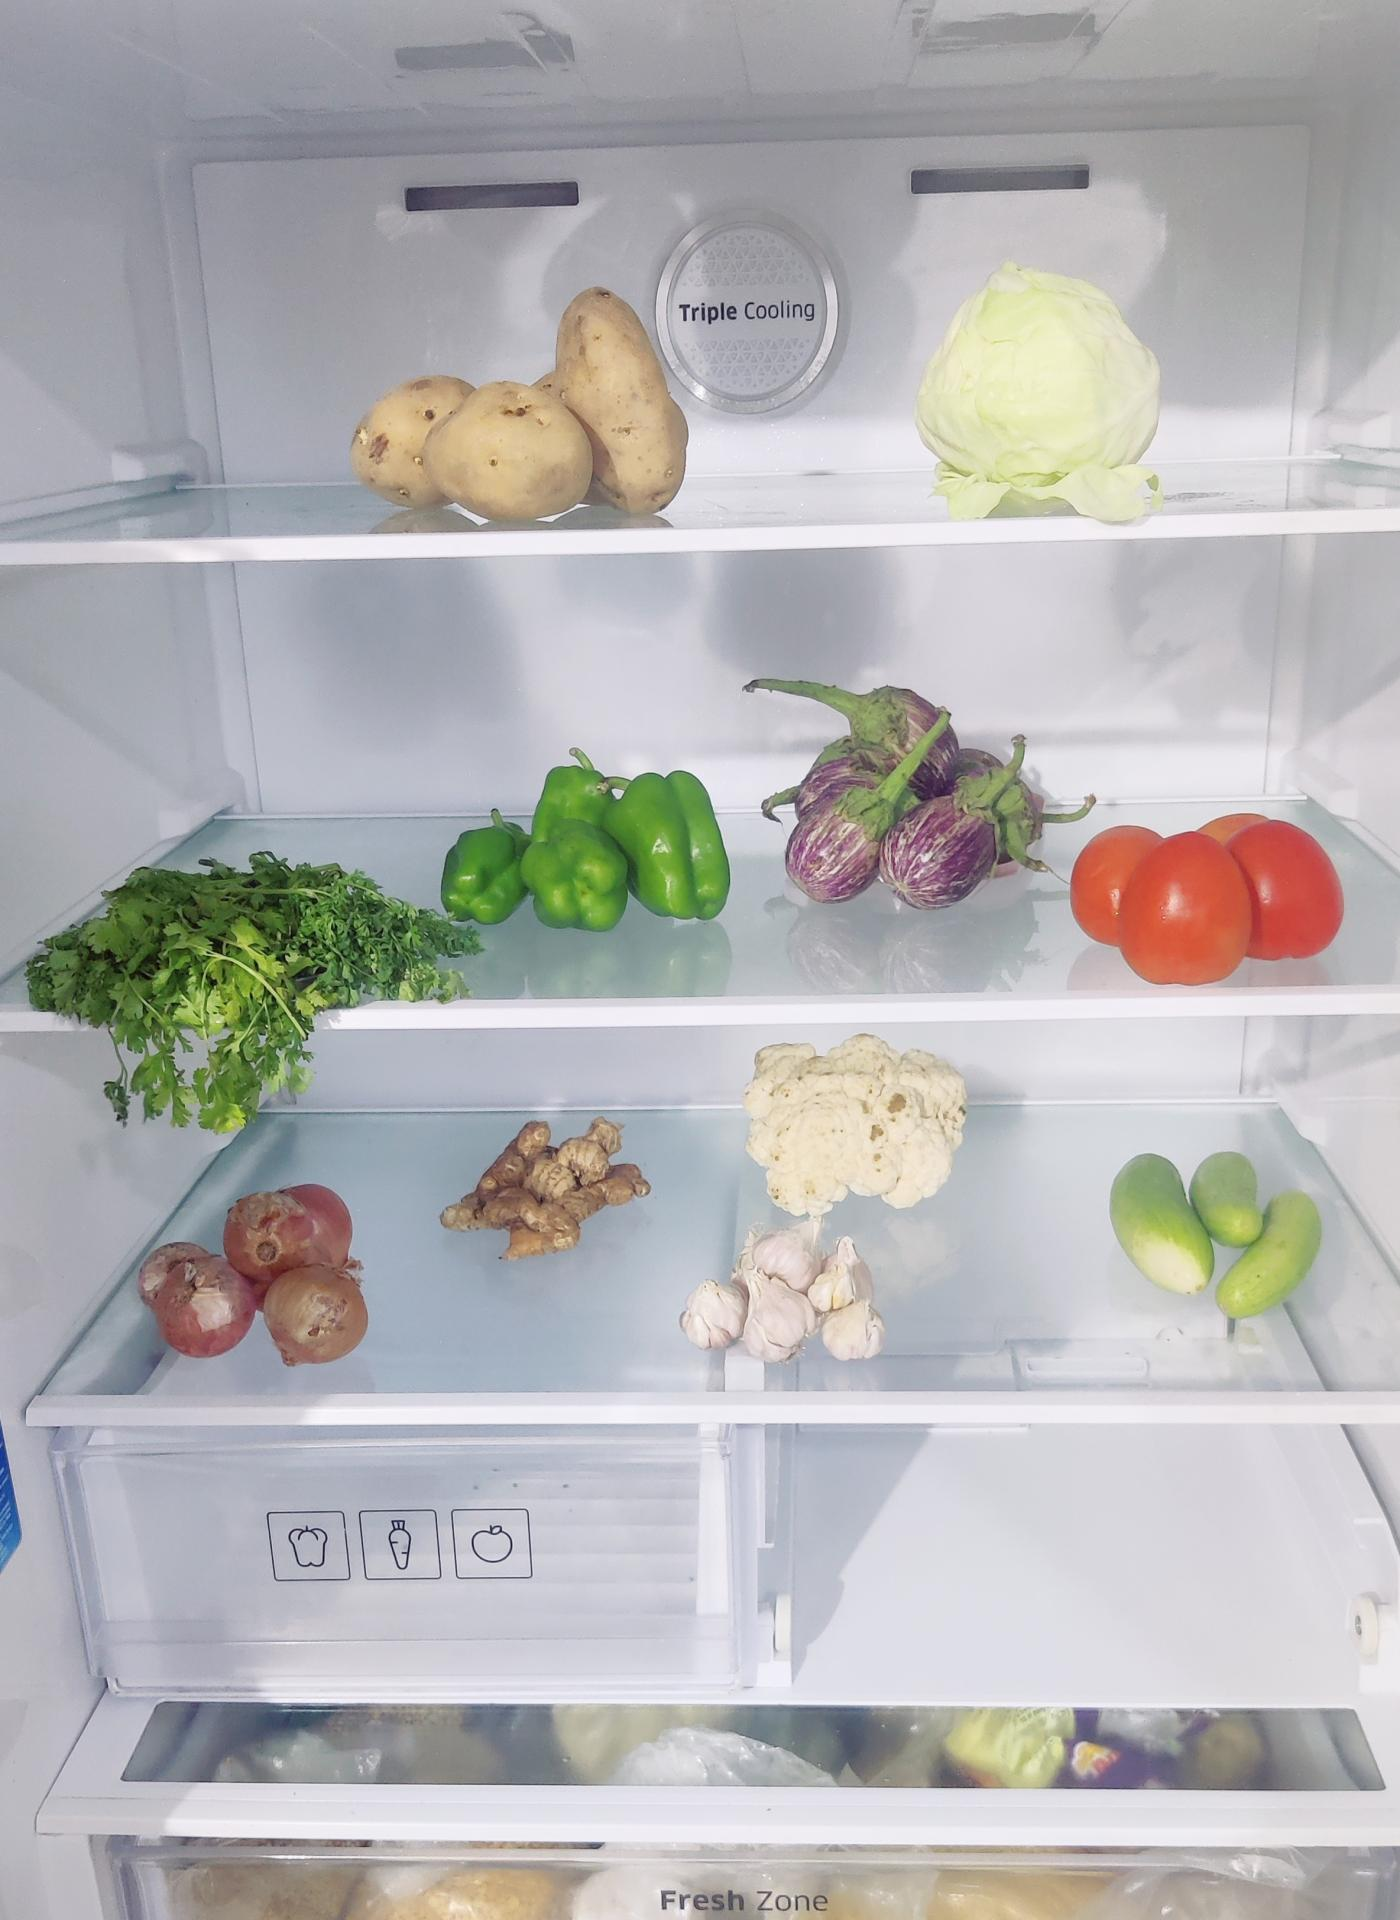brinjal: (778, 672, 1044, 920)
cabbage: (914, 270, 1164, 523)
capsicum: (449, 760, 735, 926)
cauliflower: (747, 1027, 974, 1204)
coriander: (33, 857, 464, 1118)
cucumber: (1109, 1149, 1330, 1319)
garlic: (683, 1213, 881, 1362)
ginger: (444, 1111, 646, 1255)
onion: (152, 1176, 374, 1373)
potato: (344, 291, 686, 523)
tomato: (1076, 808, 1354, 981)
